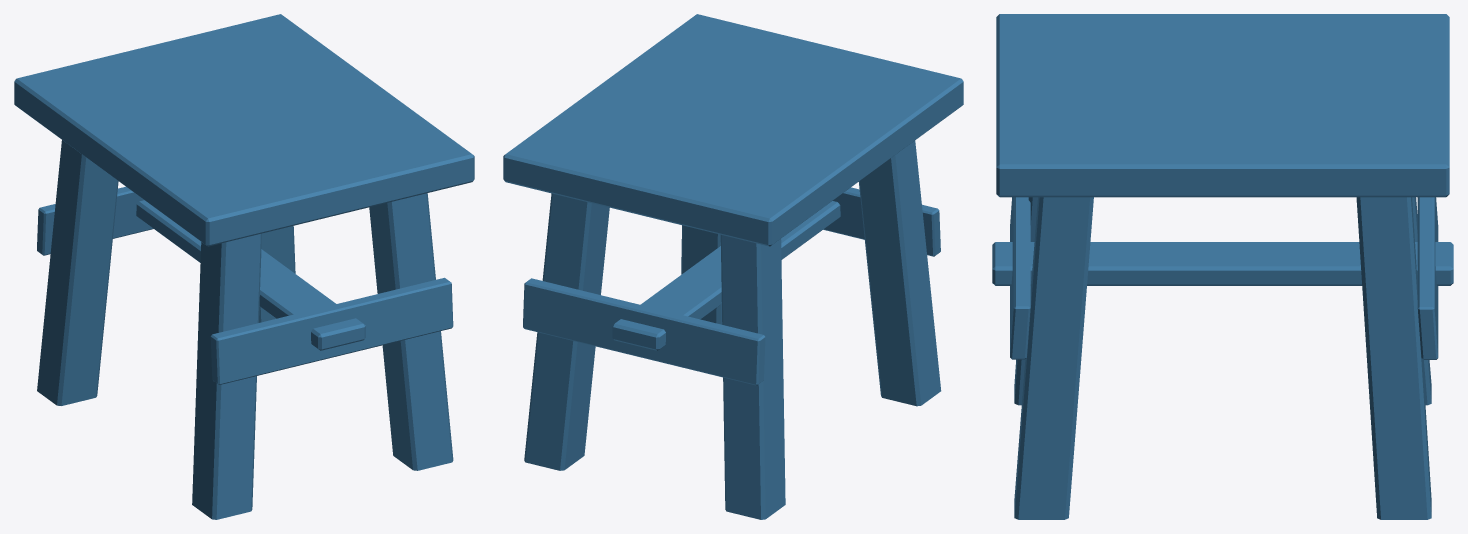
File: MainStool.fbx
3 renders of one model, left to right at view 1: azimuth 30°, elevation 25°; view 2: azimuth 150°, elevation 25°; view 3: azimuth 270°, elevation 25°, orthographic. The views are drawn at different scales.
Parts seen in each view (by area): view 1: TableStool002; view 2: TableStool002; view 3: TableStool002.
Boxes of the visible parts, x1,y1,x2,y2 form: TableStool002: (14,14,474,519); TableStool002: (503,14,963,519); TableStool002: (992,14,1453,519).
Bounding box in the file's own units: 40 × 44 × 50.9.
